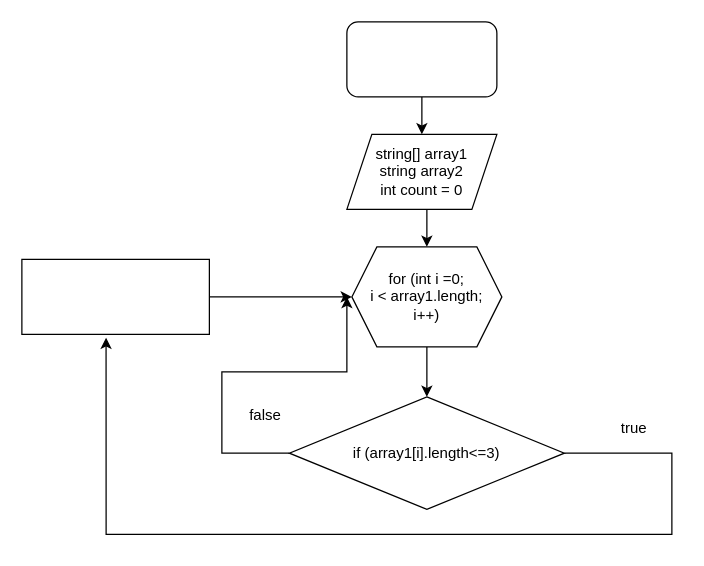
The diagram is 704 pixels wide and 566 high, and some of its shapes have lost their labels. The shapes that lost their labels are listed below. From the top down, each one's box as (x1, y1, x2, y2) in pixels, then its label:
(346, 21, 497, 97): SecondArrayWithlf
(21, 258, 209, 334): array[count] = array1[i] count++
